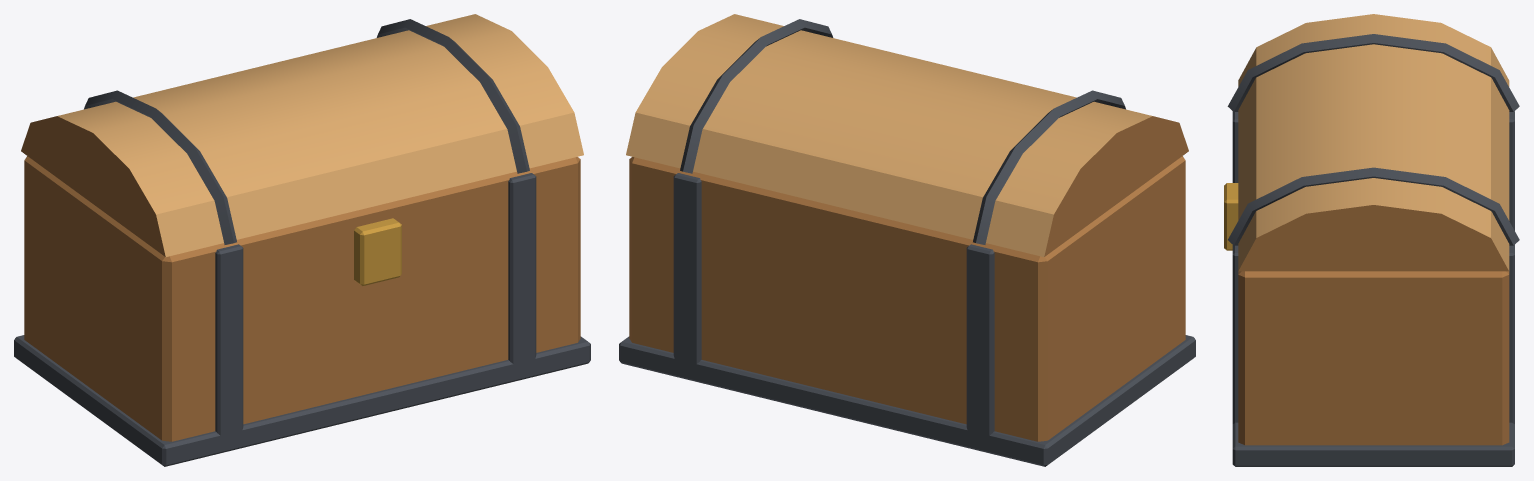
File: SM_Wooden_Chest.glb
3 renders of one model, left to right at view 1: azimuth 30°, elevation 25°; view 2: azimuth 150°, elevation 25°; view 3: azimuth 270°, elevation 25°, orthographic. The views are drawn at different scales.
Visible parts, largest first — view 1: SM_Wooden_Chest; view 2: SM_Wooden_Chest; view 3: SM_Wooden_Chest.
Part boxes in pixels (left/top/right/bottom): SM_Wooden_Chest: left=14, top=14, right=590, bottom=466; SM_Wooden_Chest: left=619, top=14, right=1195, bottom=466; SM_Wooden_Chest: left=1224, top=14, right=1519, bottom=466.
Bounding box in the file's own units: 0.82 × 0.527 × 0.5238.
Materials: 1 (1 with a texture image).
